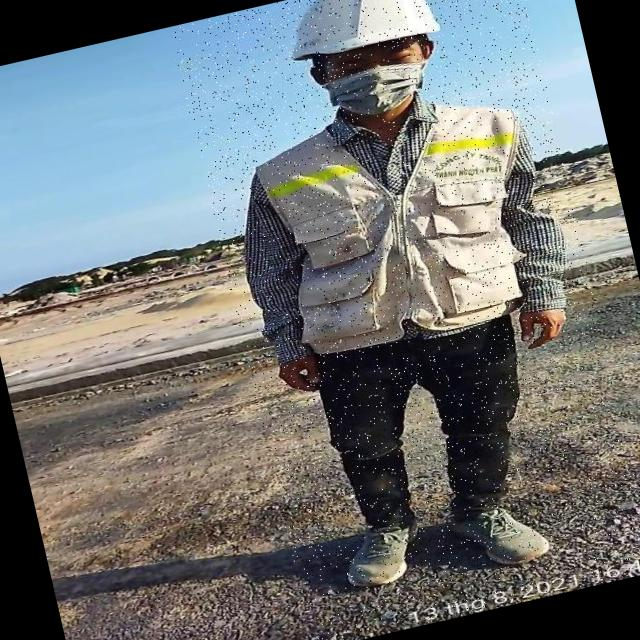hard_hat: (271, 0, 455, 77)
safety_vest: (238, 70, 574, 370)
vehicle: (169, 0, 640, 640)
work_boots: (440, 489, 576, 582), (323, 512, 438, 597)
